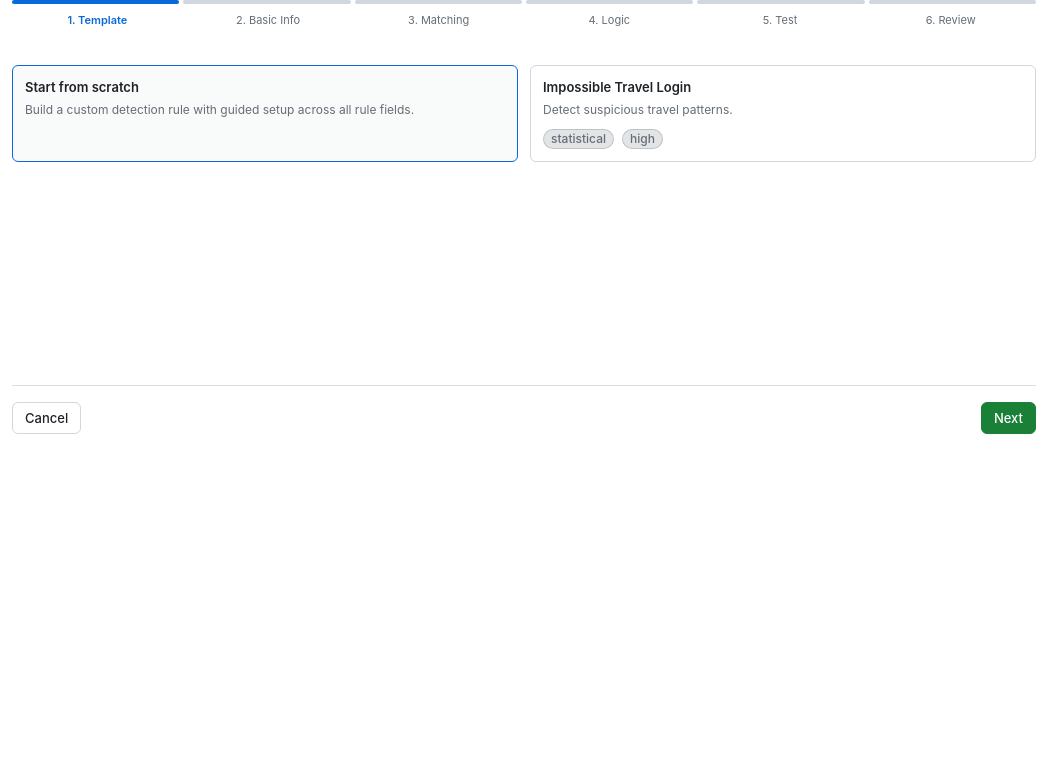
Test: RuleWizard › navigates forward and backward through steps
Click the button "Next" at (1008,418), box [981,402,1036,434]
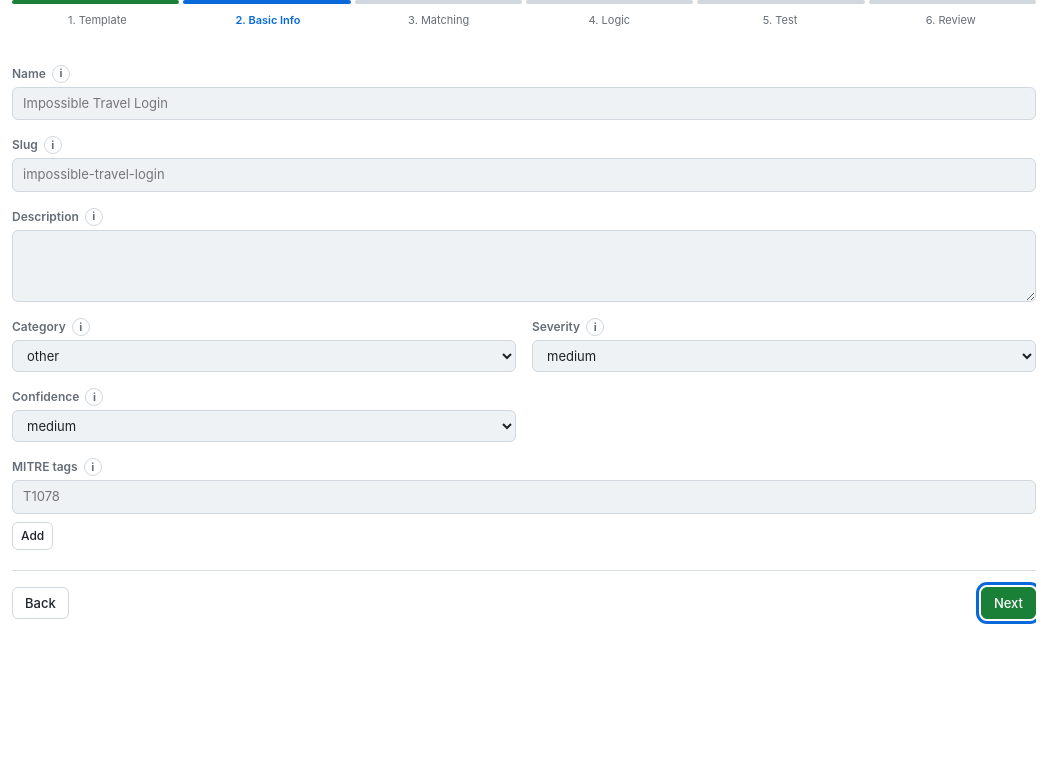
Expected: the text "2. Basic Info" is shown, [236,13,301,27]
Expected: the field with placeholder "Impossible Travel Login" is shown, [12,86,1036,120]
Click the button "Back" at (40,602), box [12,586,69,618]
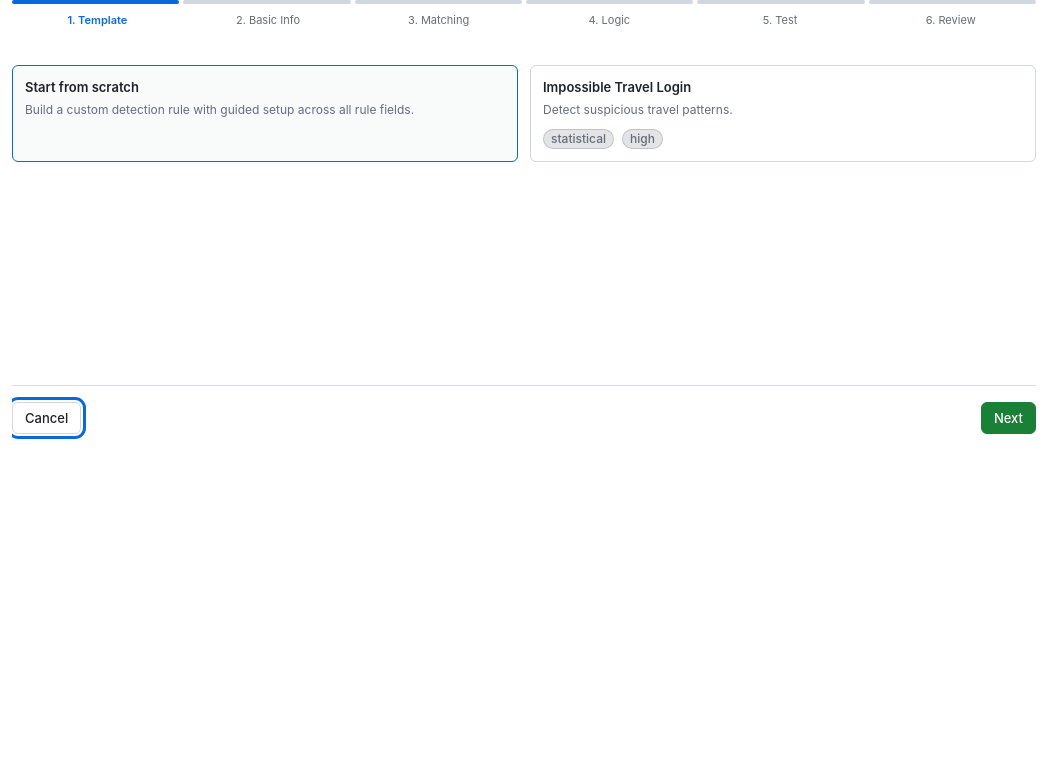
Expected: the text "Start from scratch" is shown, [25,78,139,94]
